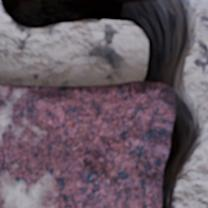brick: (0, 82, 173, 207)
crack: (0, 0, 205, 207)
